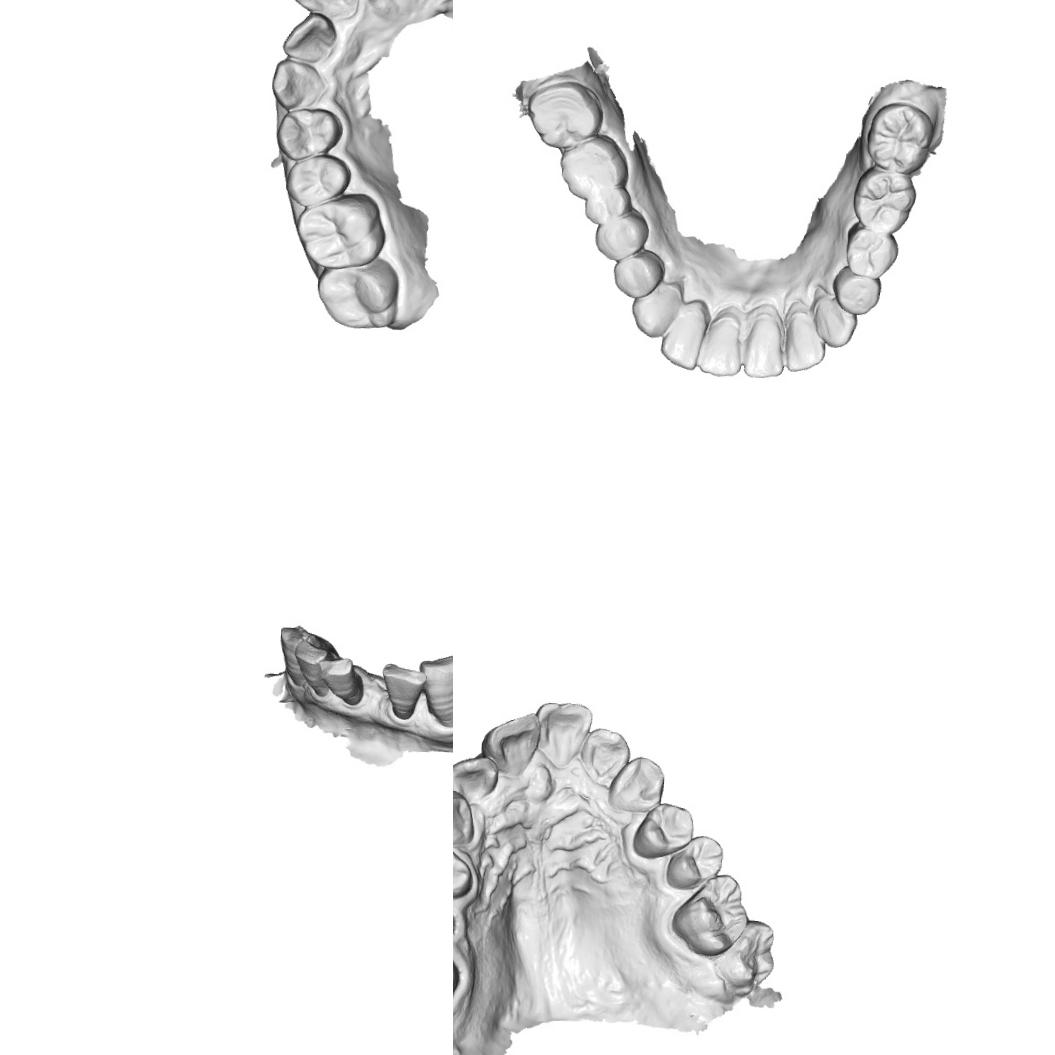canine: (606, 753, 669, 816), (268, 56, 330, 112), (629, 279, 681, 339), (415, 650, 453, 728), (276, 623, 319, 688), (810, 296, 858, 348), (453, 787, 475, 850)
incisor: (477, 708, 544, 779), (531, 698, 594, 773), (741, 300, 788, 379), (658, 296, 708, 370), (694, 304, 744, 378), (578, 723, 633, 789), (780, 301, 828, 374), (279, 9, 339, 65), (378, 661, 428, 720), (314, 655, 364, 707), (291, 637, 331, 697), (453, 752, 499, 798), (290, 0, 361, 19)
molar: (292, 189, 389, 272), (667, 869, 752, 959), (312, 253, 402, 331), (524, 78, 604, 151), (713, 916, 779, 999), (864, 101, 934, 175), (557, 132, 630, 202), (850, 164, 918, 235)
premolar: (272, 104, 346, 163), (630, 799, 697, 863), (282, 152, 352, 209), (662, 831, 726, 892), (592, 204, 650, 262), (844, 220, 900, 280), (610, 246, 666, 300), (830, 263, 882, 315), (582, 184, 632, 226), (453, 842, 475, 900)
